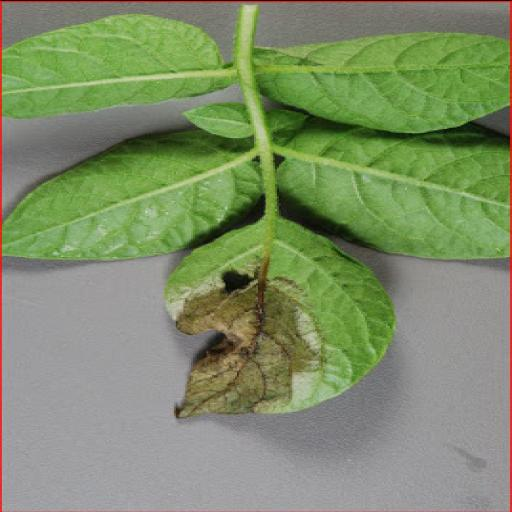Late Blight: (157, 210, 407, 425)
